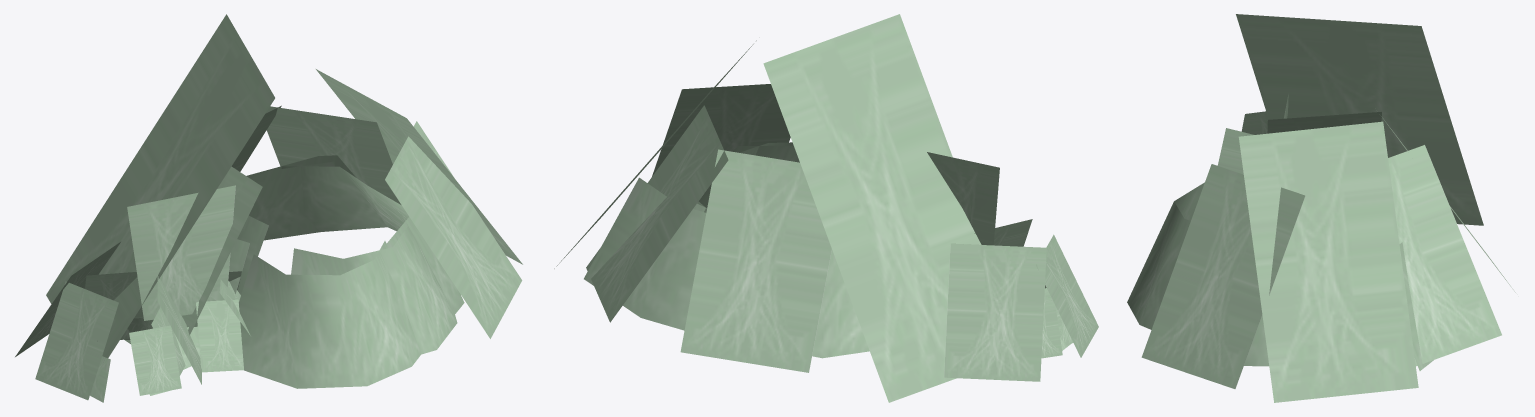
The model's file is 6001_Item_zhizhuwang_3.FBX.
3 views of the same model, side by side, from view 1: azimuth 30°, elevation 25°; view 2: azimuth 150°, elevation 25°; view 3: azimuth 270°, elevation 25° (orthographic). The views are drawn at different scales.
Visible parts, largest first — view 1: 6001_Item_zhizhuwang_3; view 2: 6001_Item_zhizhuwang_3; view 3: 6001_Item_zhizhuwang_3.
Boxes of the visible parts, x1,y1,x2,y2 form: 6001_Item_zhizhuwang_3: (15,14,522,402); 6001_Item_zhizhuwang_3: (554,14,1098,402); 6001_Item_zhizhuwang_3: (1127,14,1515,402).
Size of the model in its own units: 768 by 426 by 535.
